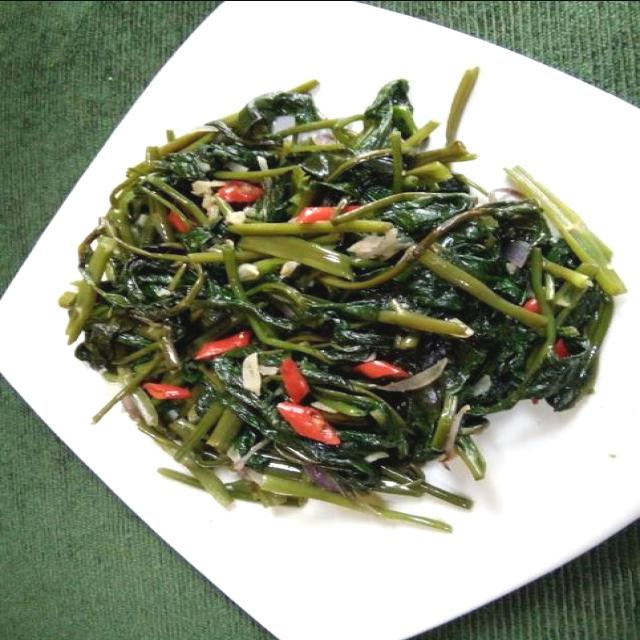tumis kangkung: (57, 77, 627, 528)
